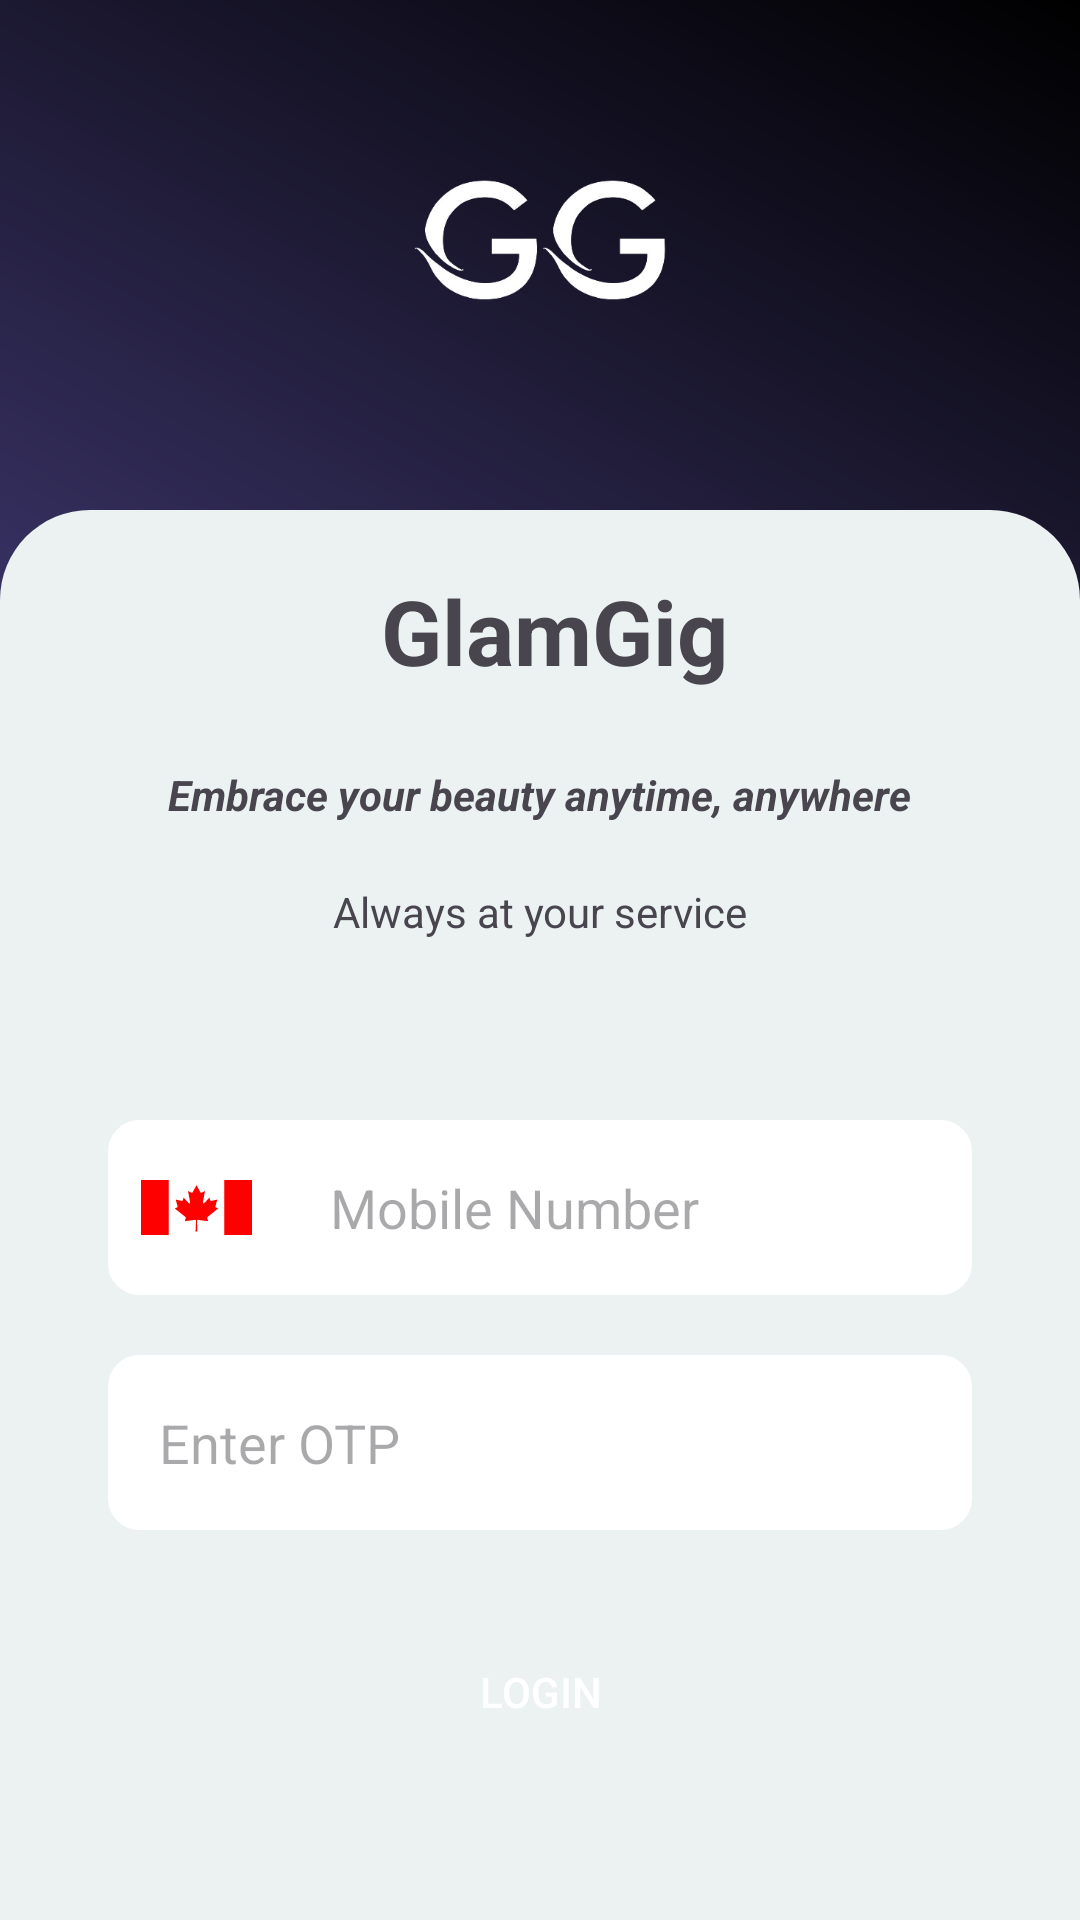

Named icons in this screenshot (1080 × 1920) and their bounding boxes, [x1=x1, y1=y1, x2=x2, y2=y2]:
flag of canada: [x1=141, y1=1180, x2=252, y2=1235]
